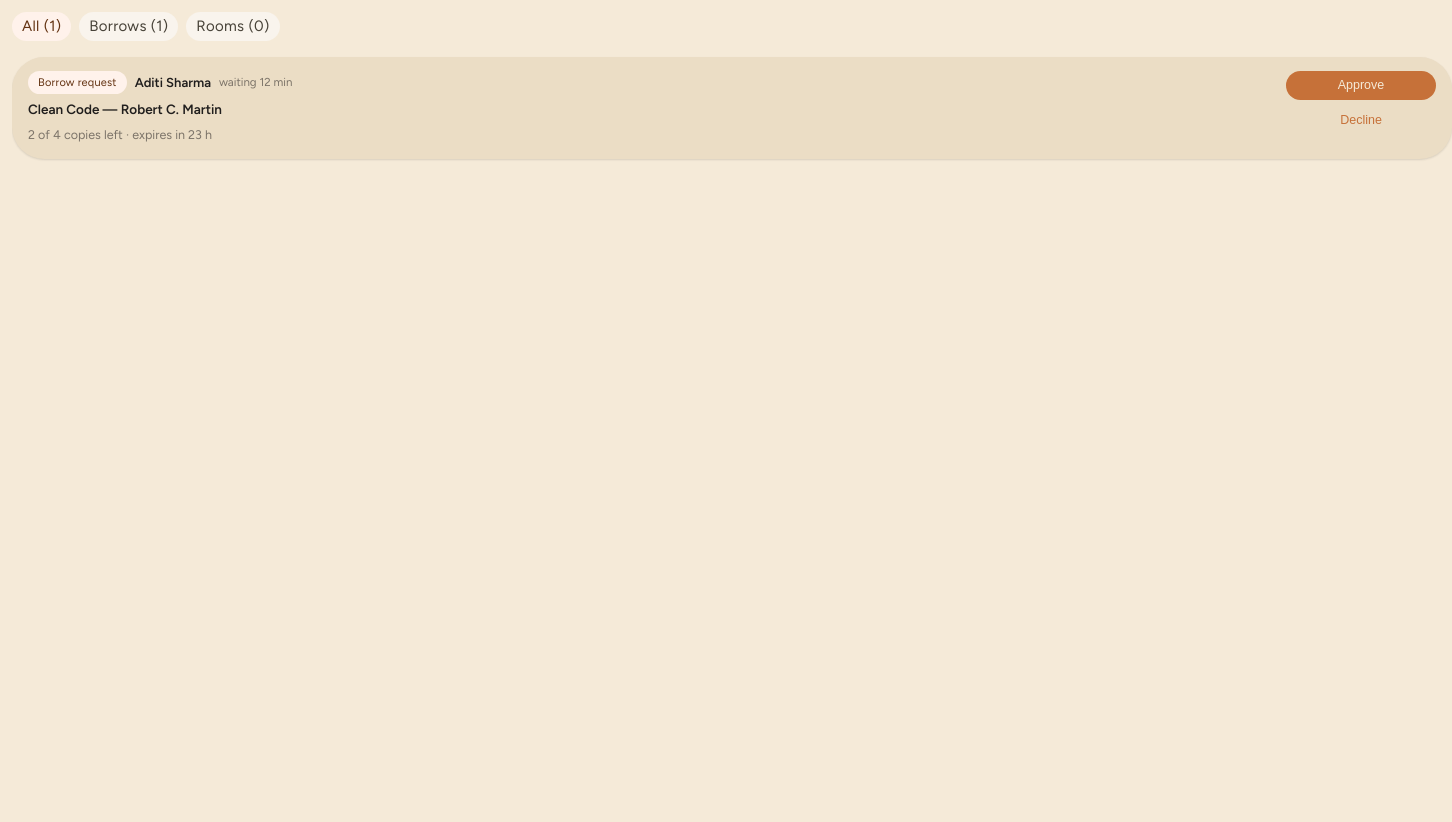
Requests page › approves, says so and refreshes the list -- once, however fast the clicks
The width and height of the screenshot is (1452, 822).
Click the button "Approve" at (1361, 86), box [1286,71,1436,100]
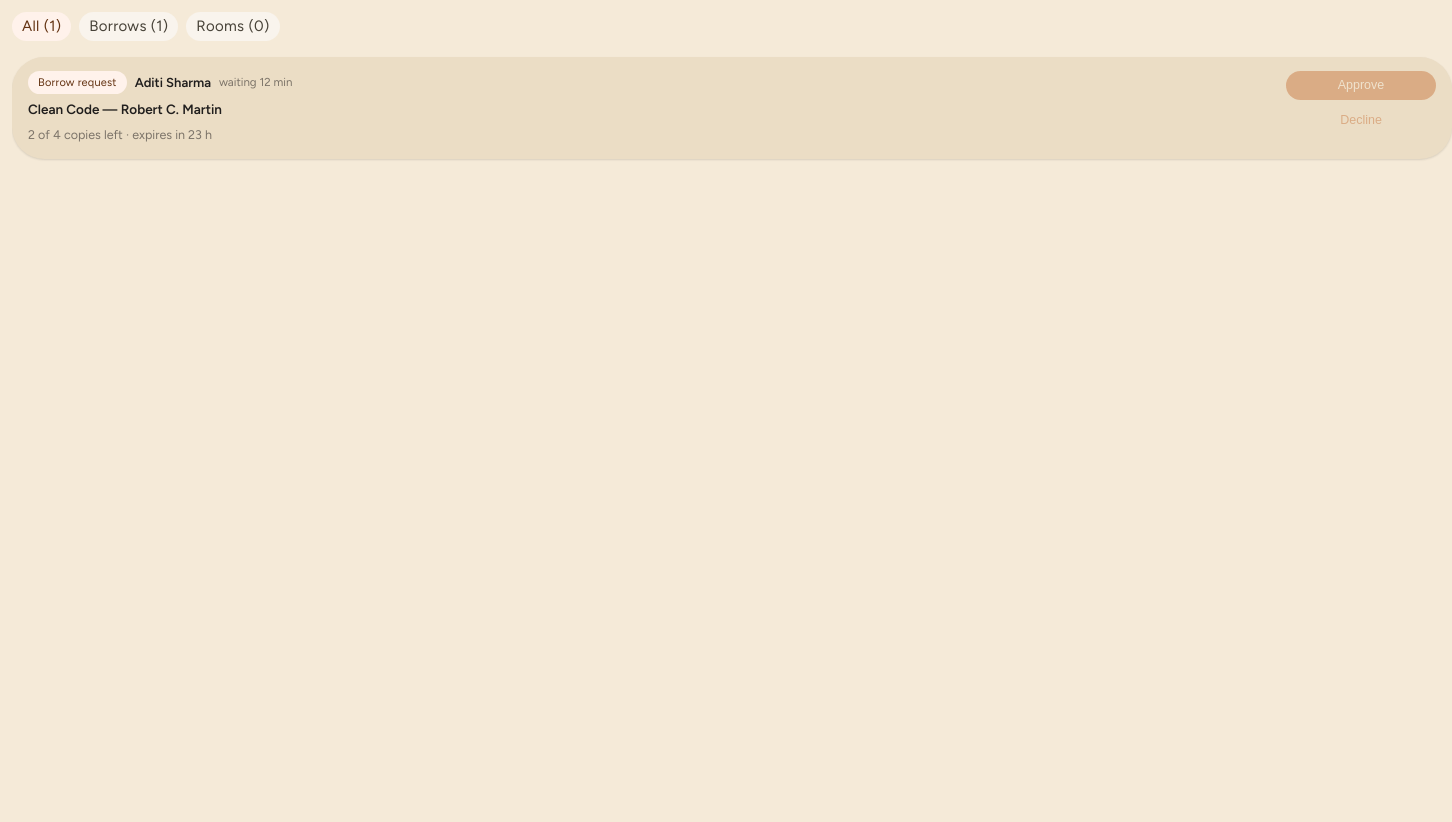
Click the button "Approve" at (1361, 86), box [1286,71,1436,100]
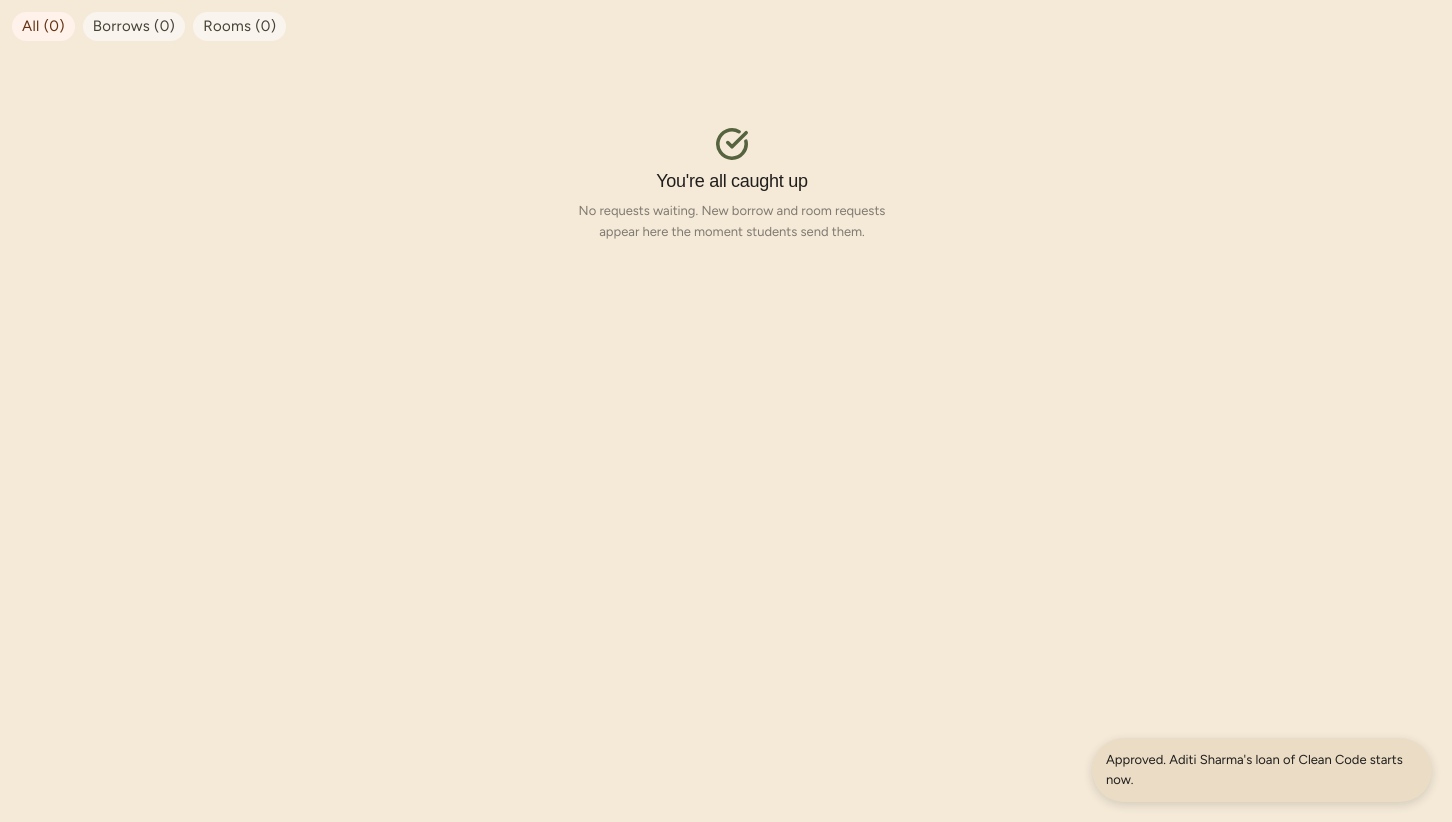
Expected: the text "Approved. Aditi Sharma's loan of Clean Code starts now." is shown, [1106,750,1418,790]
Expected: the heading "You're all caught up" is shown, [656,171,808,192]
